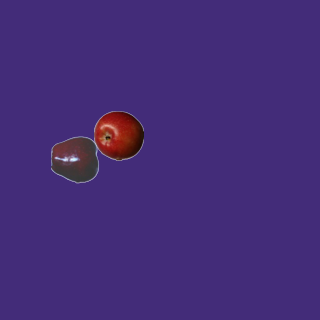Apple Braeburn: (93, 110, 143, 160)
Apple Red Delicious: (50, 134, 100, 184)
